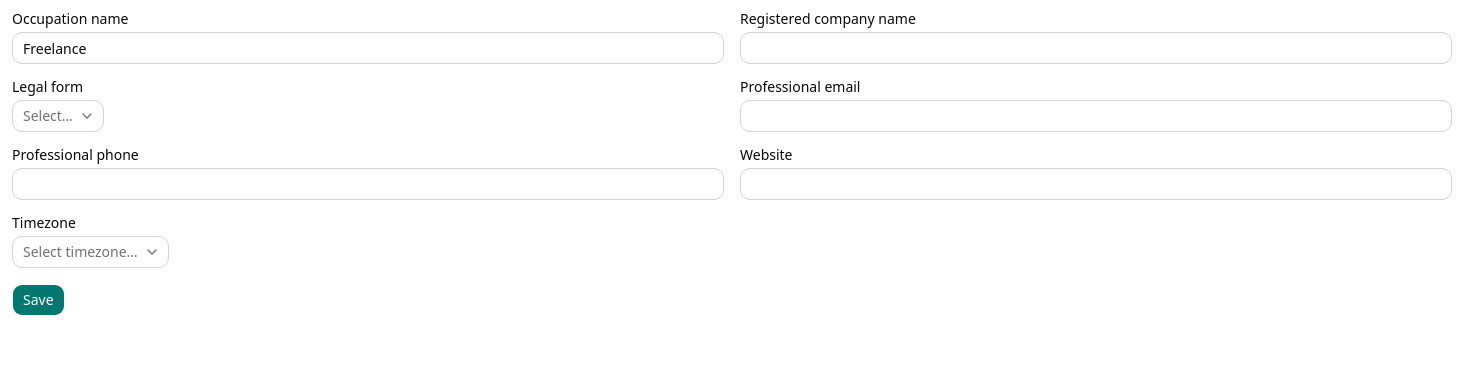
Test: OccupationInfoForm › blocks submit and shows a validation error for a javascript: website URL
In the field labelled "Website": (1096, 184) [740,168,1452,200], type "javascript:alert(1)"
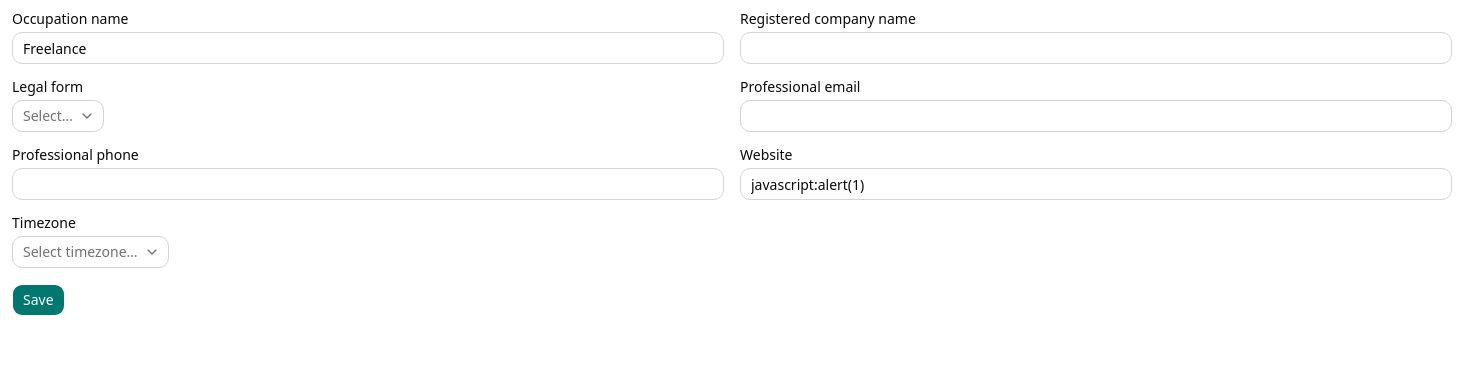
Click the button "Save": (38, 300) [12,284,65,316]
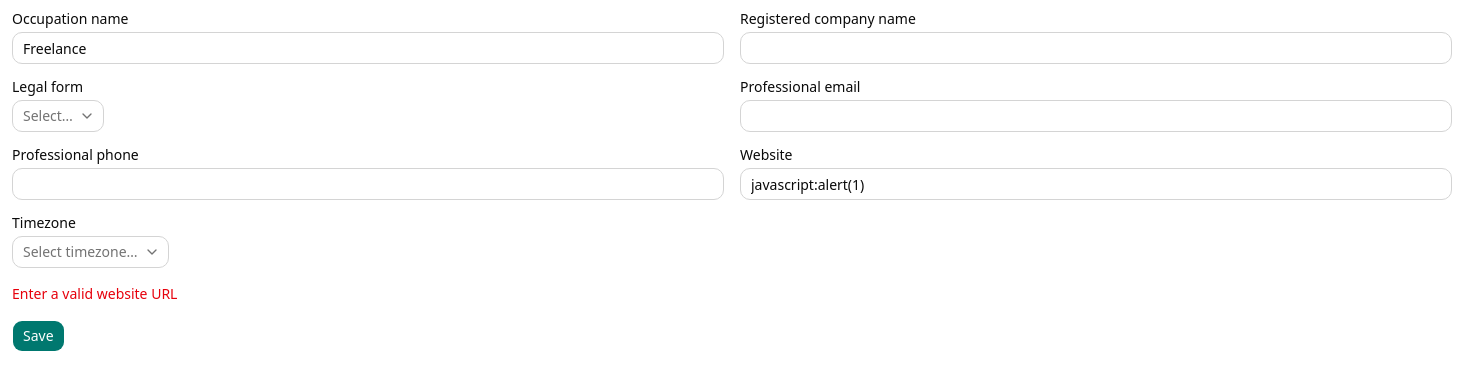
Check: the text "Enter a valid website URL" is shown, box [12,284,177,303]
